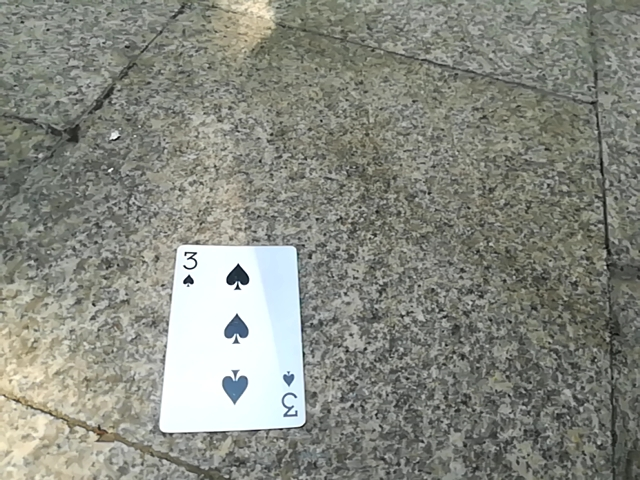ht 3: (154, 241, 296, 433)
